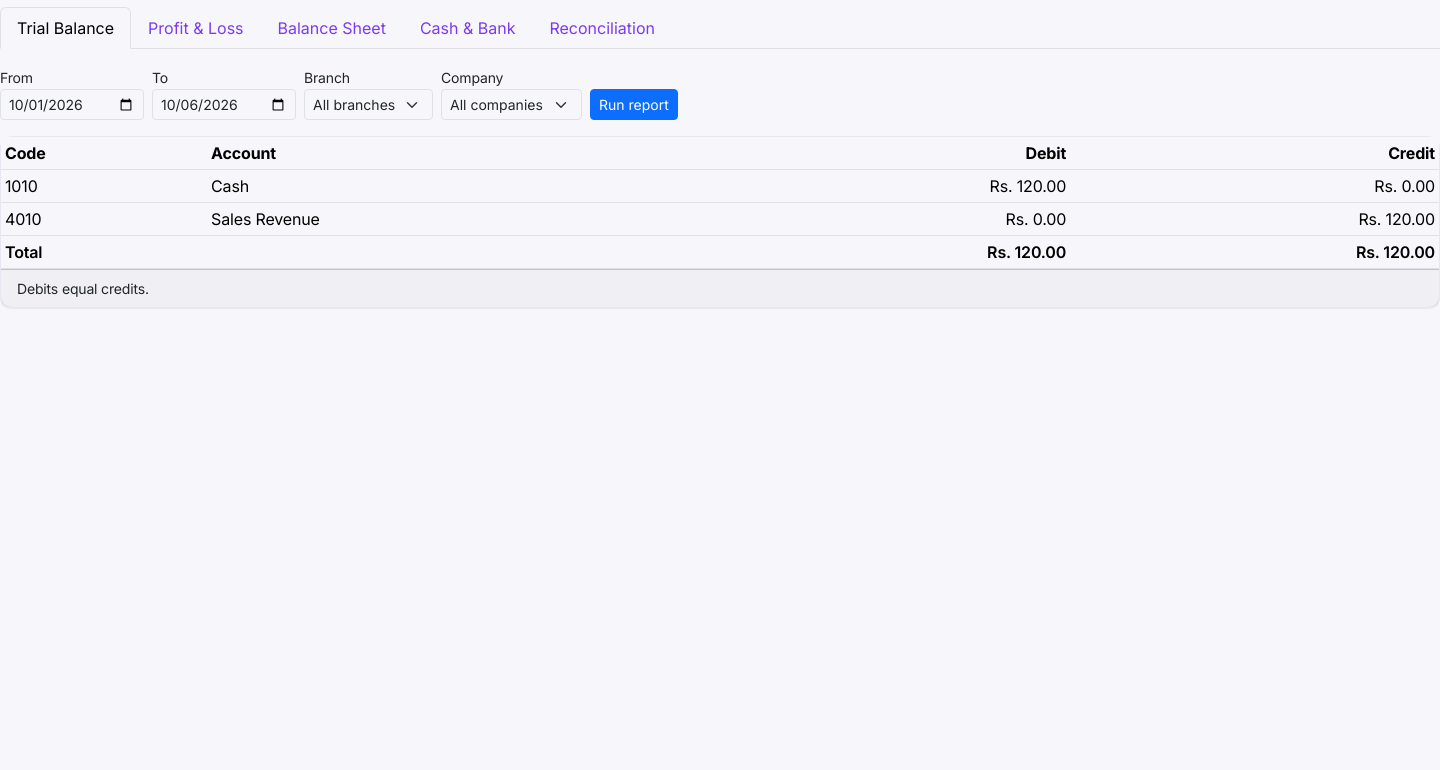
it: FinancialReports › the reconciliation tab flags unexplained differences and explains why cash is unavailable when scoped
The width and height of the screenshot is (1440, 770).
Expected: the text "Sales Revenue" is shown, 207,202 -> 701,236
Click the button "Reconciliation" at (602, 28), box 532,7 -> 672,49
(page scrolled)
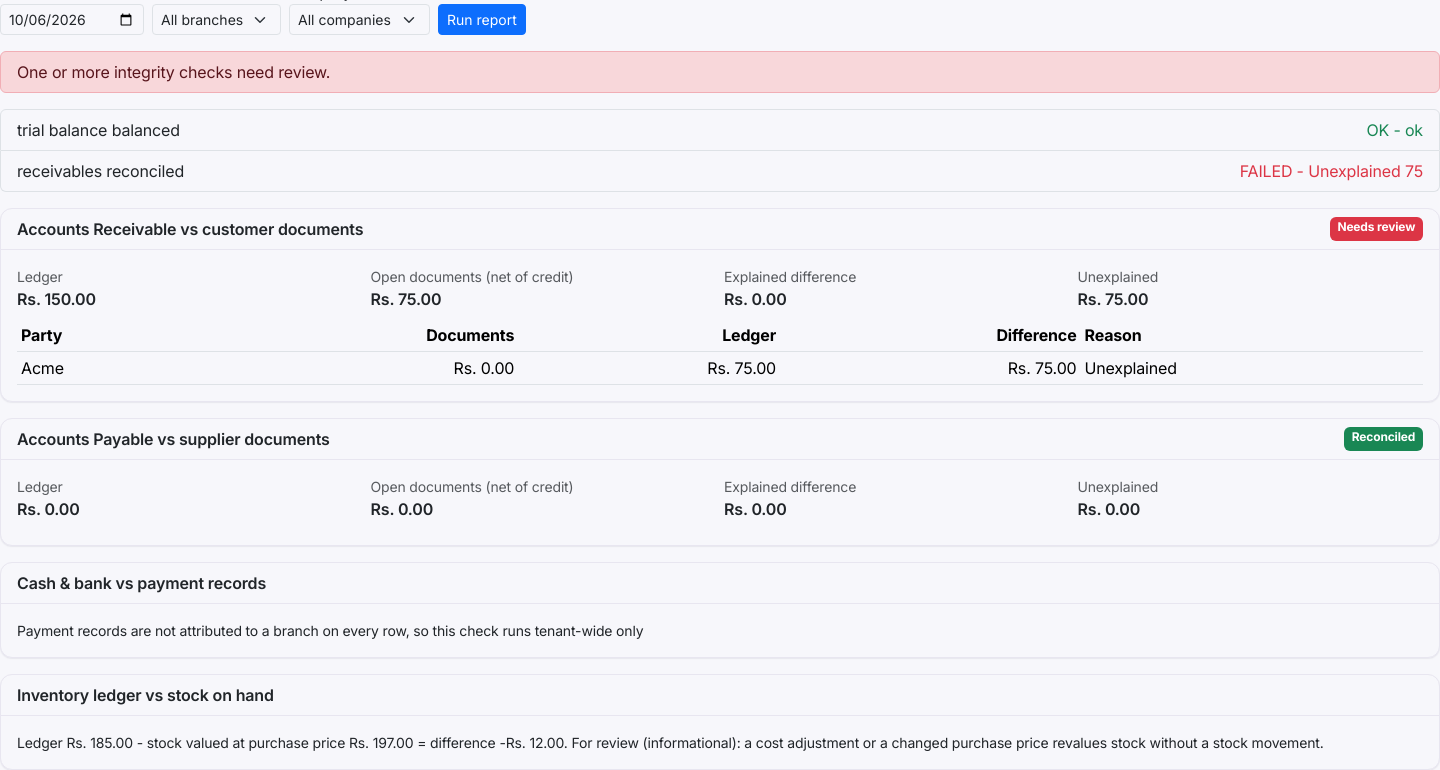
Expected: the text "One or more integrity checks need review." is shown, 0,51 -> 1439,93
Expected: the text "Needs review" is shown, 1330,217 -> 1423,241
Expected: the text "Reconciled" is shown, 1344,427 -> 1423,451
